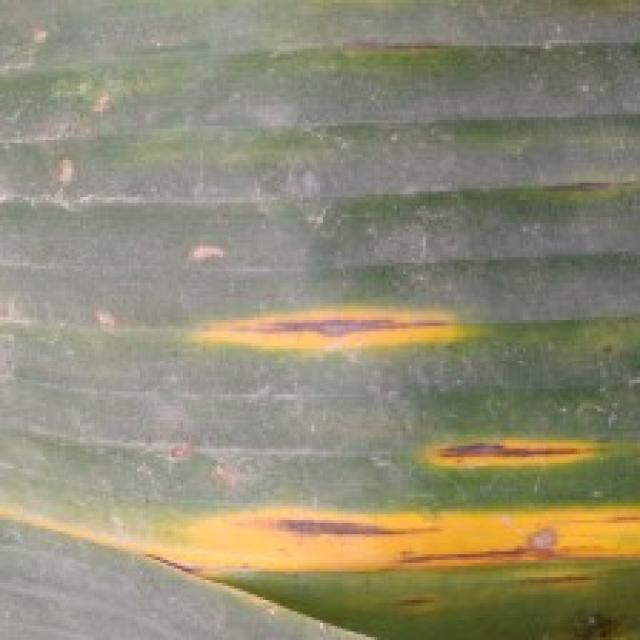Early_leaf_spot: (0, 466, 640, 610), (174, 288, 479, 376), (422, 412, 622, 487), (519, 160, 640, 216), (325, 30, 451, 69)
